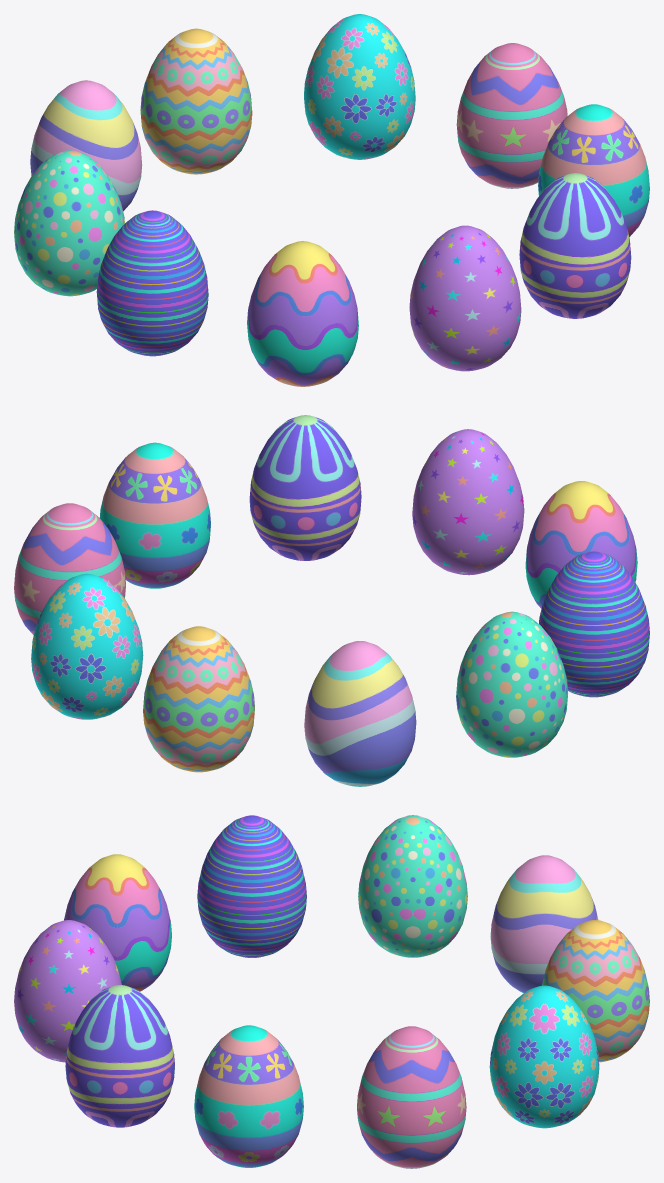
Rendered from EasterEggs.fbx.
The picture shows the model from 3 angles, top to bottom: view 1: azimuth 30°, elevation 25°; view 2: azimuth 150°, elevation 25°; view 3: azimuth 270°, elevation 25°; orthographic projection. The views are drawn at different scales.
Visible parts, largest first — view 1: Egg01, Egg06, Egg10, Egg07, Egg02, Egg03, Egg04, Egg08, Egg05, Egg09; view 2: Egg06, Egg05, Egg07, Egg10, Egg01, Egg04, Egg09, Egg03, Egg08, Egg02; view 3: Egg07, Egg04, Egg03, Egg08, Egg09, Egg10, Egg01, Egg06, Egg05, Egg02.
Boxes of the visible parts, bbox=[...] form: Egg01: bbox=[409, 225, 521, 371]; Egg06: bbox=[140, 28, 252, 174]; Egg10: bbox=[519, 173, 631, 318]; Egg07: bbox=[304, 14, 415, 159]; Egg02: bbox=[247, 241, 358, 386]; Egg03: bbox=[96, 210, 208, 356]; Egg04: bbox=[14, 150, 124, 296]; Egg08: bbox=[456, 43, 567, 188]; Egg05: bbox=[30, 80, 142, 211]; Egg09: bbox=[538, 104, 649, 236]; Egg06: bbox=[143, 626, 254, 772]; Egg05: bbox=[304, 641, 416, 786]; Egg07: bbox=[31, 573, 143, 719]; Egg10: bbox=[249, 415, 361, 560]; Egg01: bbox=[412, 429, 524, 575]; Egg04: bbox=[456, 611, 567, 757]; Egg09: bbox=[99, 442, 210, 588]; Egg03: bbox=[539, 551, 649, 697]; Egg08: bbox=[14, 503, 125, 634]; Egg02: bbox=[525, 481, 637, 608]; Egg07: bbox=[489, 985, 599, 1128]; Egg04: bbox=[358, 815, 467, 957]; Egg03: bbox=[197, 815, 306, 957]; Egg08: bbox=[357, 1026, 466, 1168]; Egg09: bbox=[194, 1025, 303, 1167]; Egg10: bbox=[65, 985, 174, 1127]; Egg01: bbox=[14, 920, 121, 1062]; Egg06: bbox=[542, 920, 649, 1062]; Egg05: bbox=[490, 855, 598, 993]; Egg02: bbox=[64, 854, 171, 991].
Size of the model in its own units: 1110 by 272 by 1159.
Materials: 10 (10 with a texture image).
